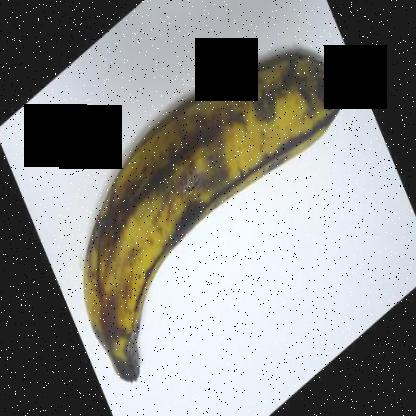overripe: (85, 30, 363, 388)
